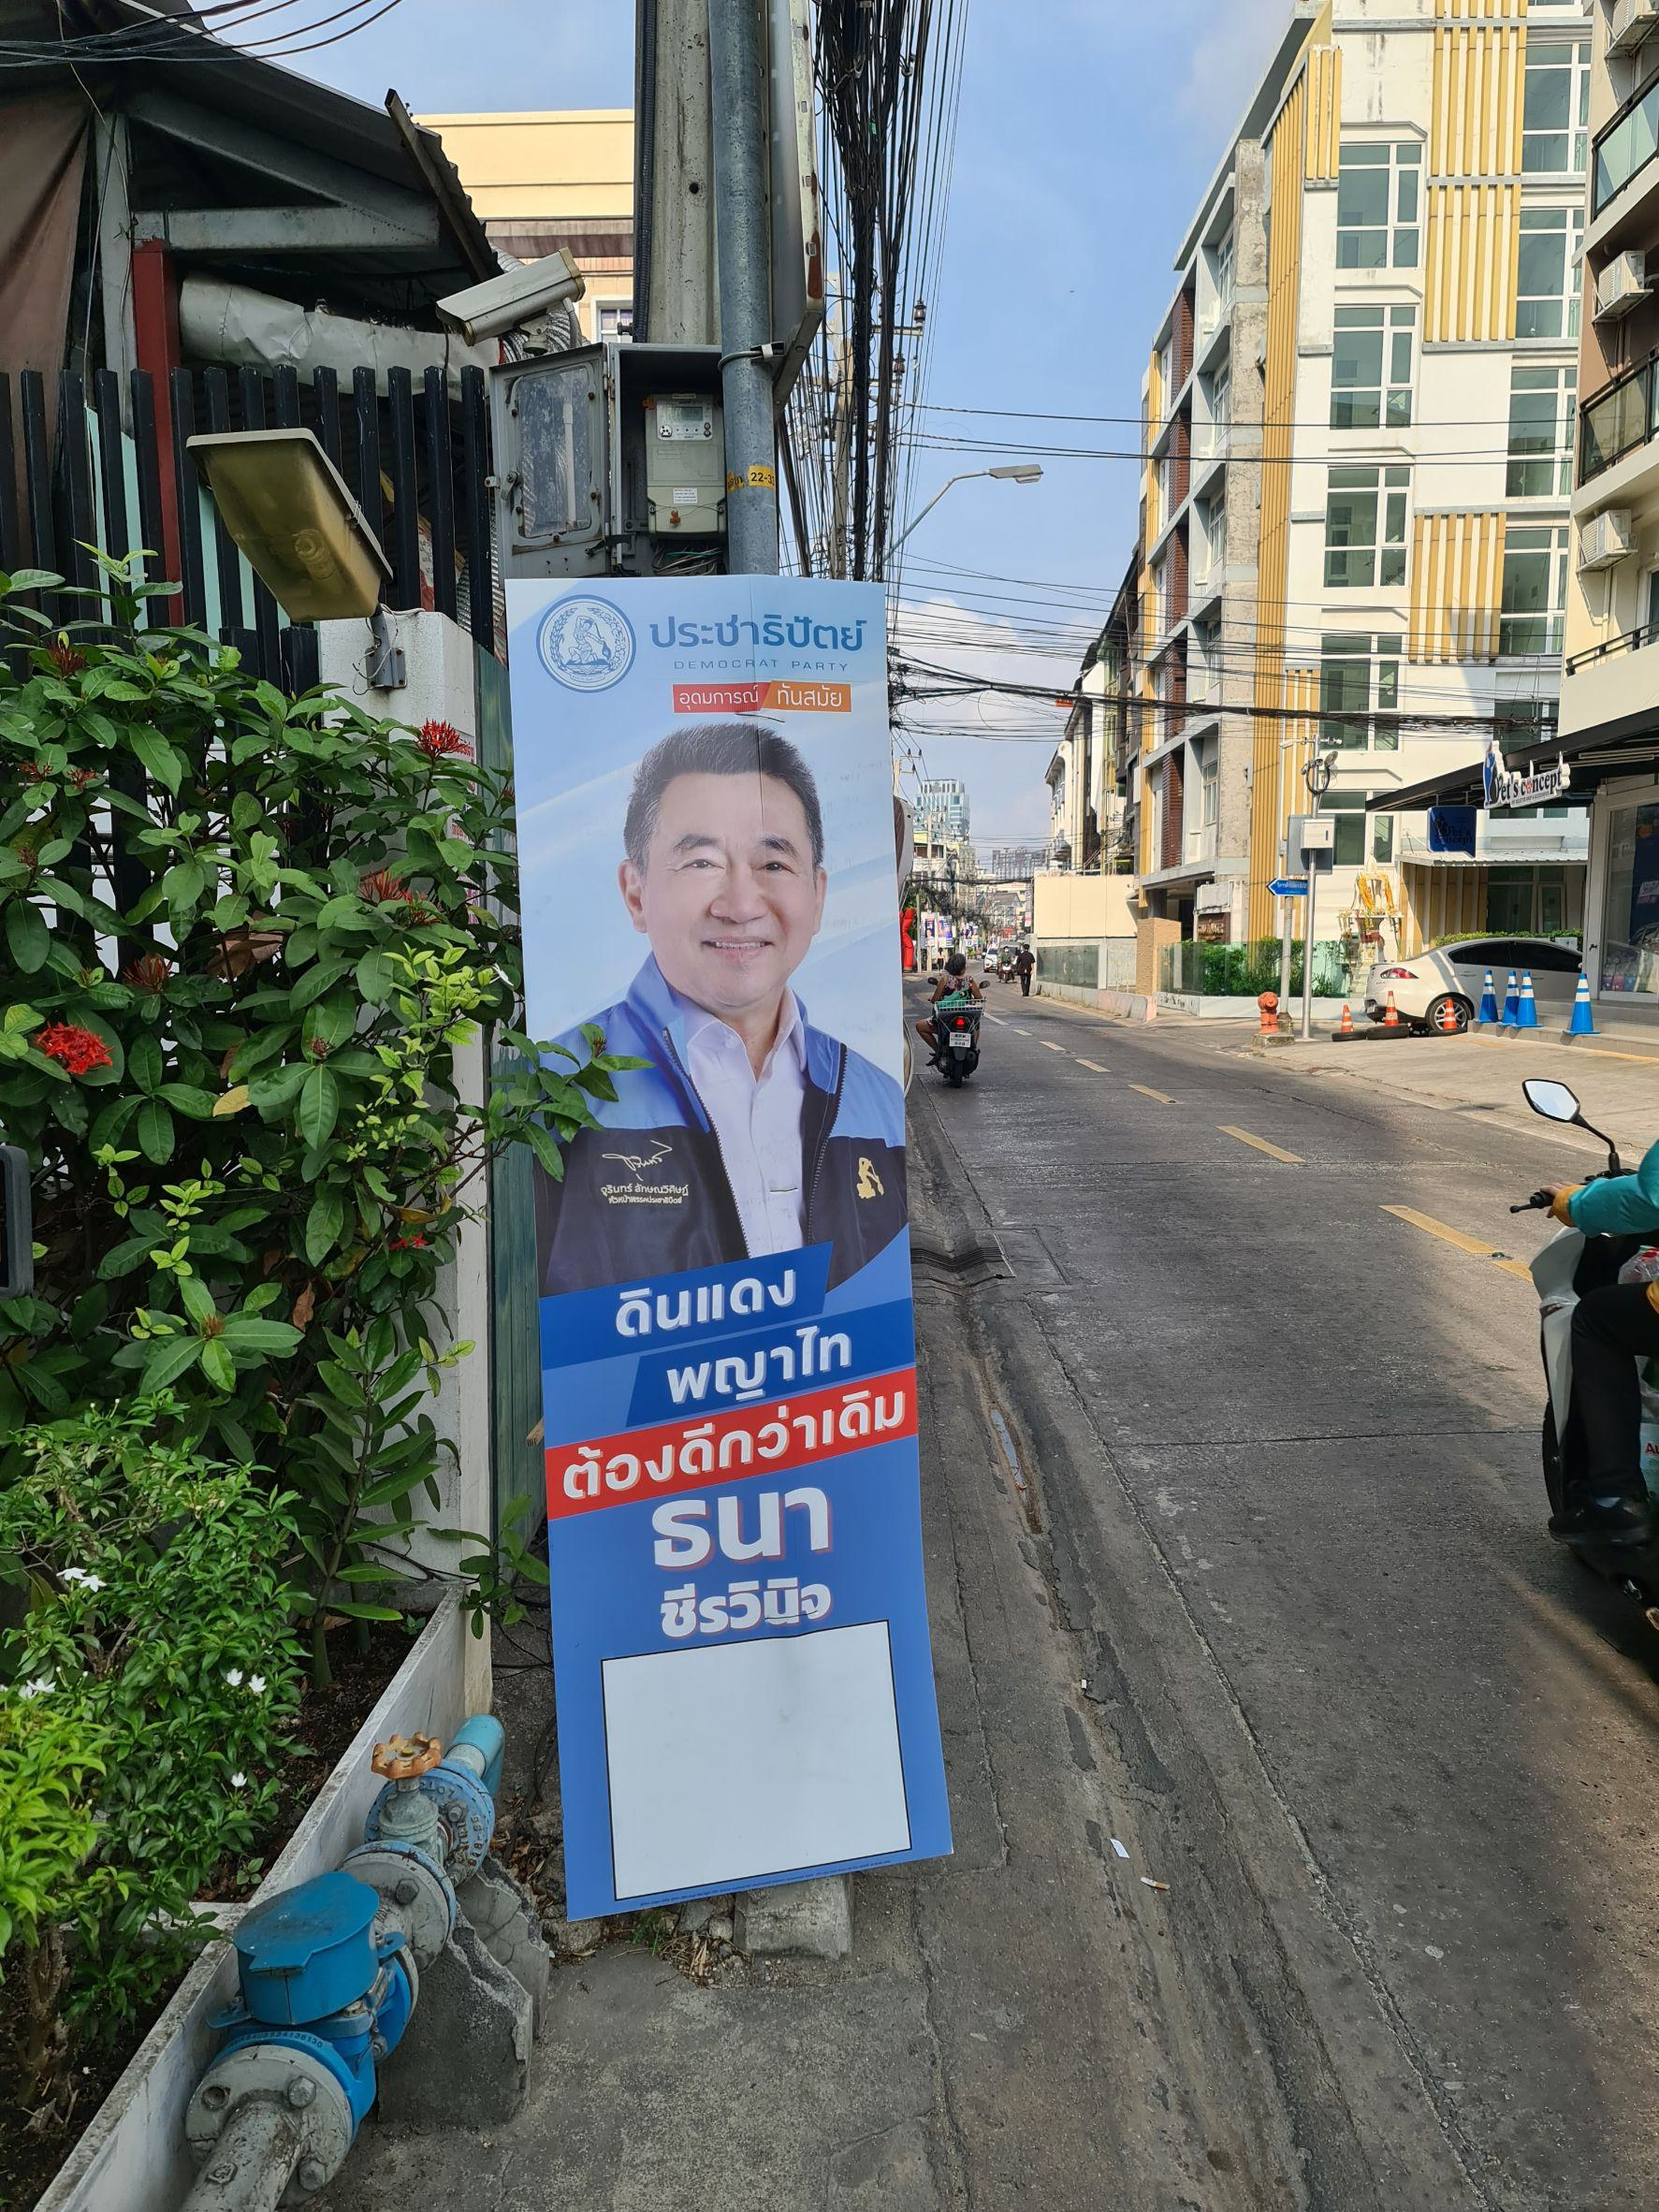Banner: (484, 564, 964, 1905)
